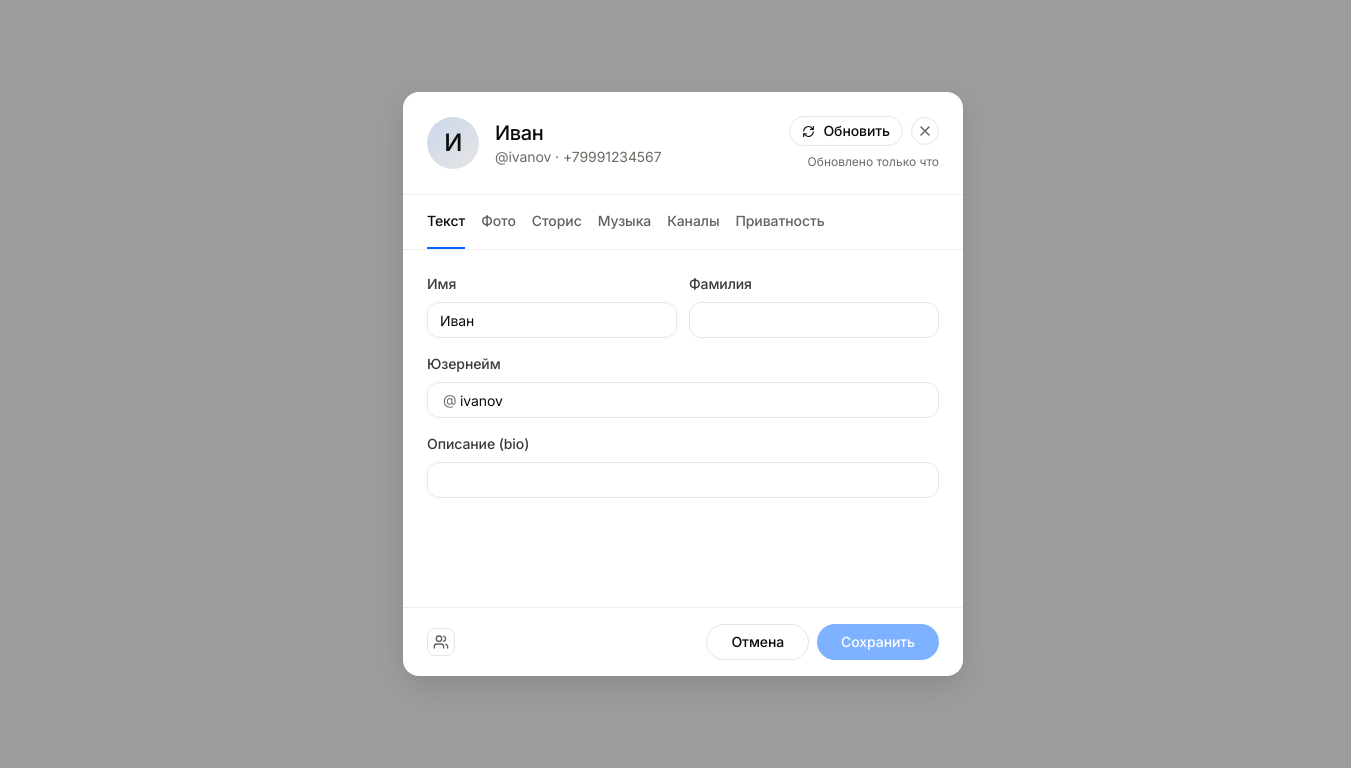
Test case: the refresh button flashes a success state on a clean re-pull
Click the button "Обновить" at (846, 131), box [789,116,903,146]
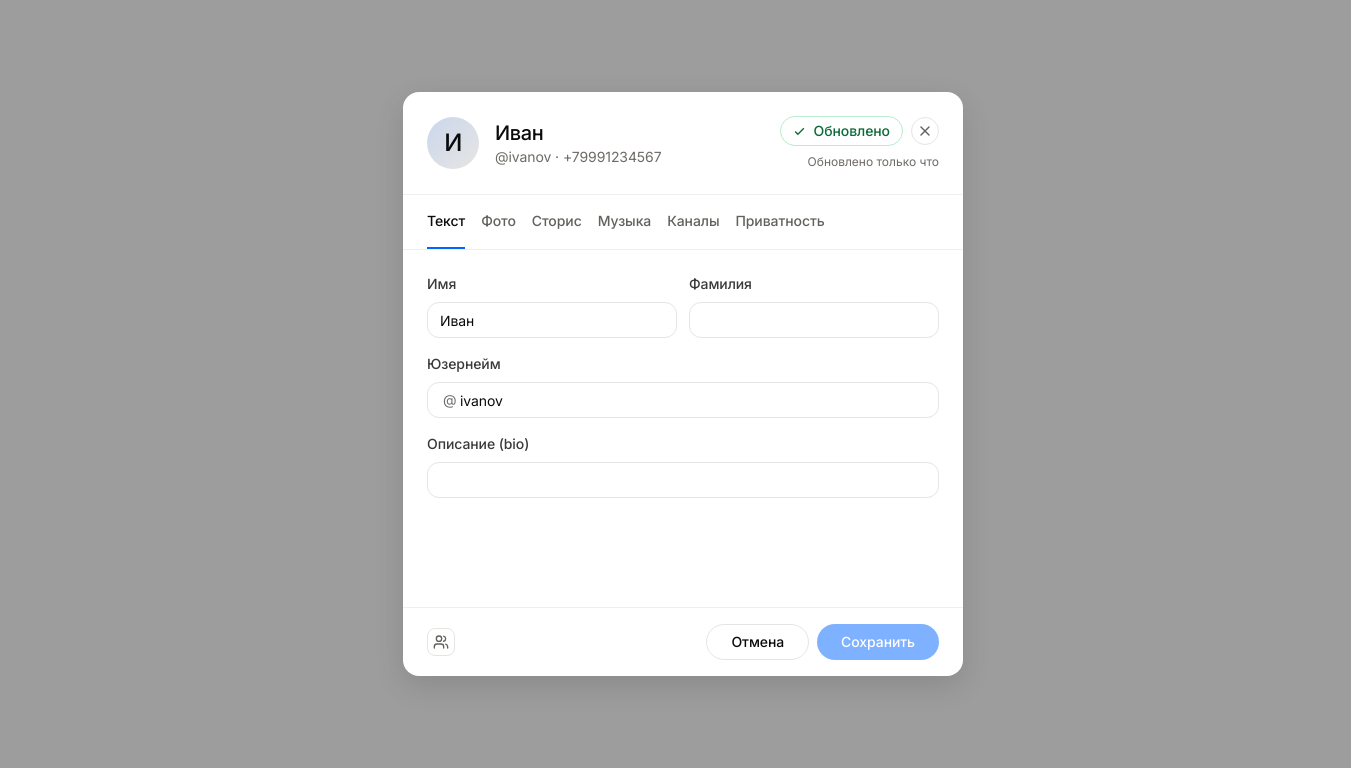
Check: the button "Обновлено" is shown, box [780,116,903,146]
